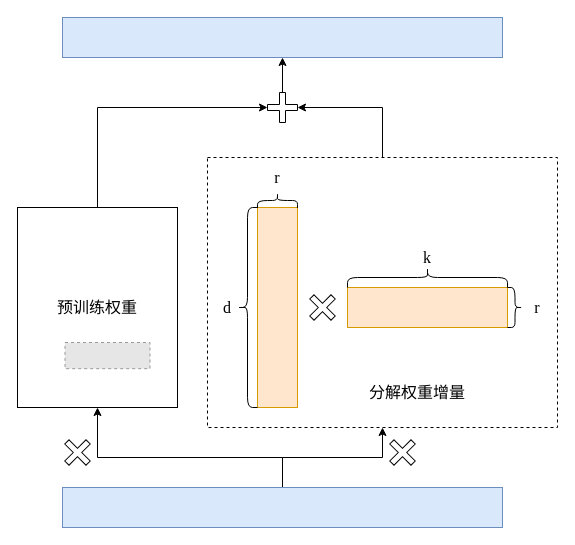
Image size: 575x545. Some labels were removed from this diagram. Grey dashed boxes stand in for pictures. The centre of each missing label's shape, as x and y in pixels:
"前向激活输入 x" goes at (282,507).
"输出 h" goes at (282,37).
